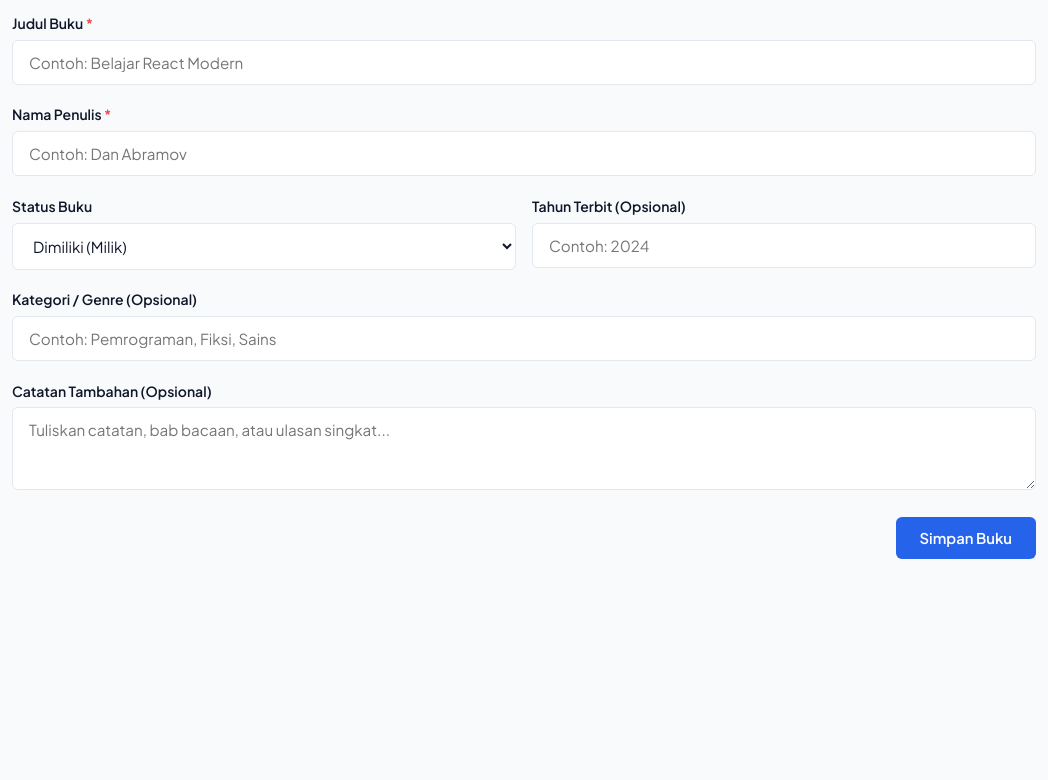
Test case: Komponen BookForm (Validasi & Error Handling) › Test 5: Menampilkan pesan error validasi ketika field wajib (judul & penulis) kosong
Click the button "Simpan Buku": (966, 538) [896,517,1036,559]
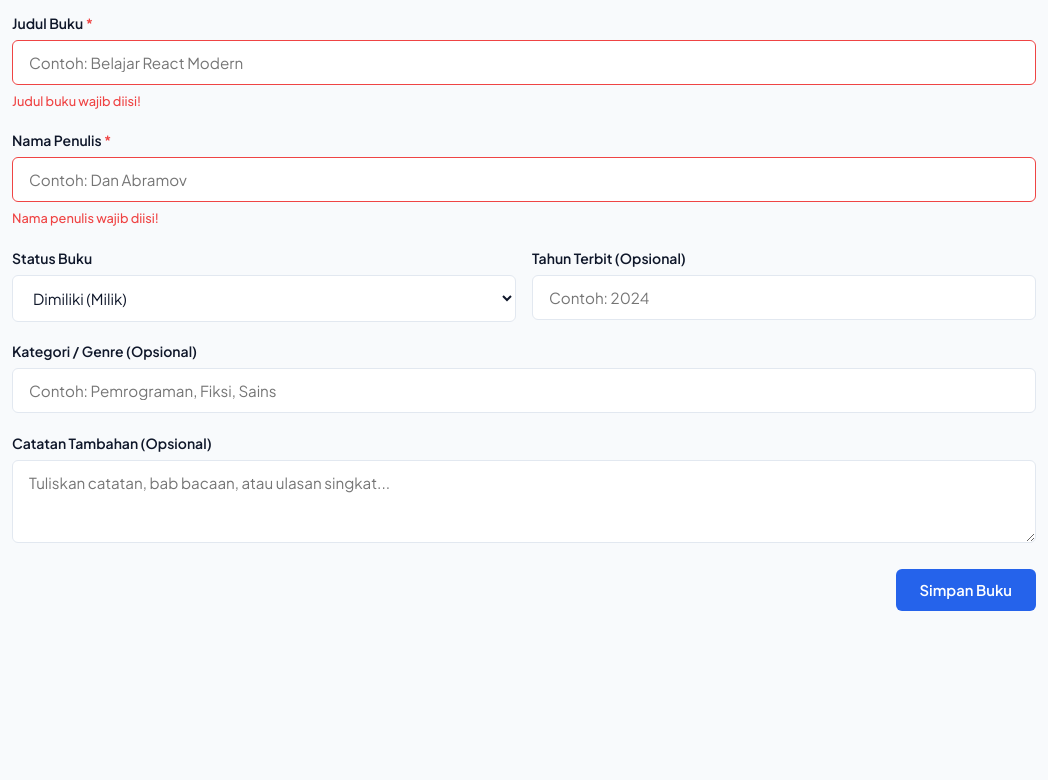
Now the text "Judul buku wajib diisi!" is shown, box [12,93,141,109]
Now the text "Nama penulis wajib diisi!" is shown, box [12,210,159,226]
